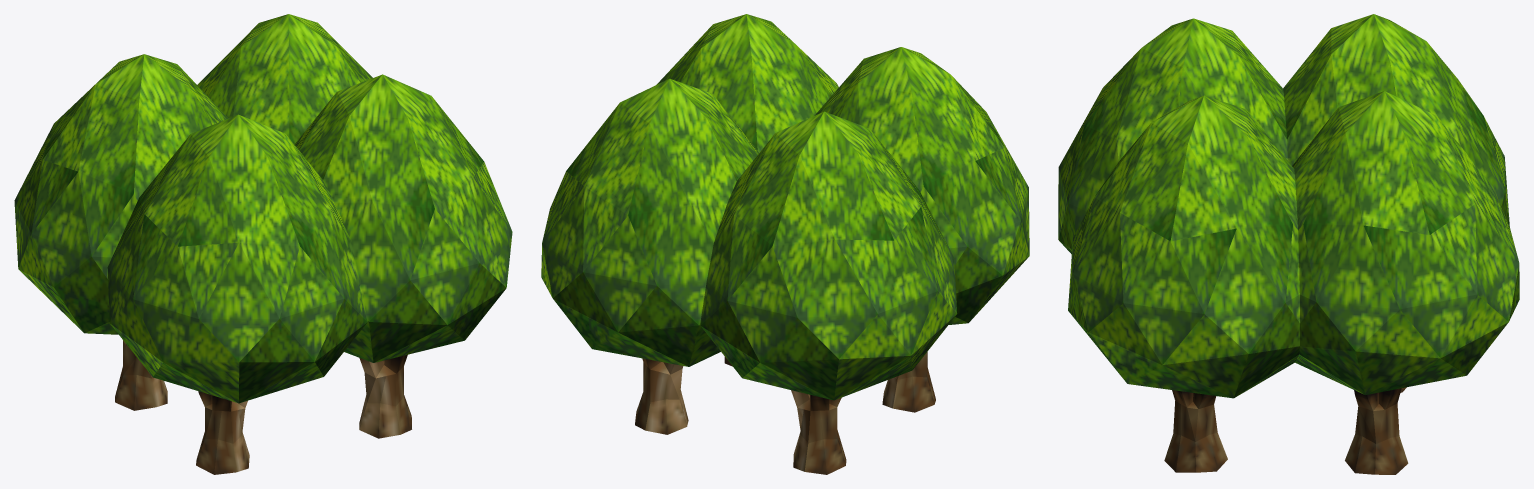
The model's file is Poly_Tree_01_Multiple.obj.
The picture shows the model from 3 angles, left to right: view 1: azimuth 30°, elevation 25°; view 2: azimuth 150°, elevation 25°; view 3: azimuth 270°, elevation 25°; orthographic projection. The views are drawn at different scales.
Visible parts, largest first — view 1: Icosphere.004, Plane.002; view 2: Icosphere.004, Plane.002; view 3: Icosphere.004, Plane.002.
Boxes of the visible parts, x1,y1,x2,y2 form: Icosphere.004: (14,14,512,403); Plane.002: (115,340,411,474); Icosphere.004: (541,14,1029,400); Plane.002: (635,352,935,474); Icosphere.004: (1058,14,1519,398); Plane.002: (1164,387,1408,474).
Size of the model in its own units: 5.06 by 4.41 by 4.99.
1 material, 1 textured.
